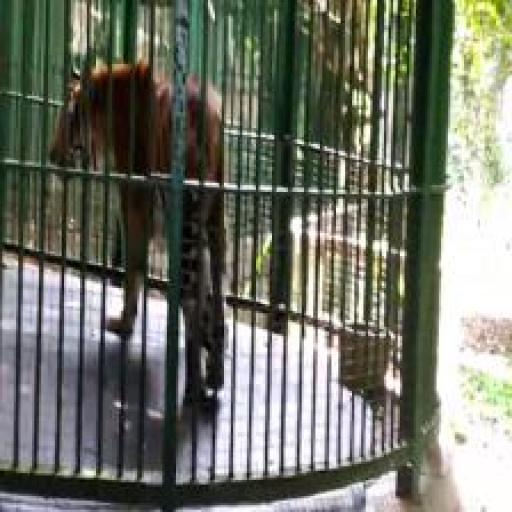Tiger: (41, 43, 241, 423)
